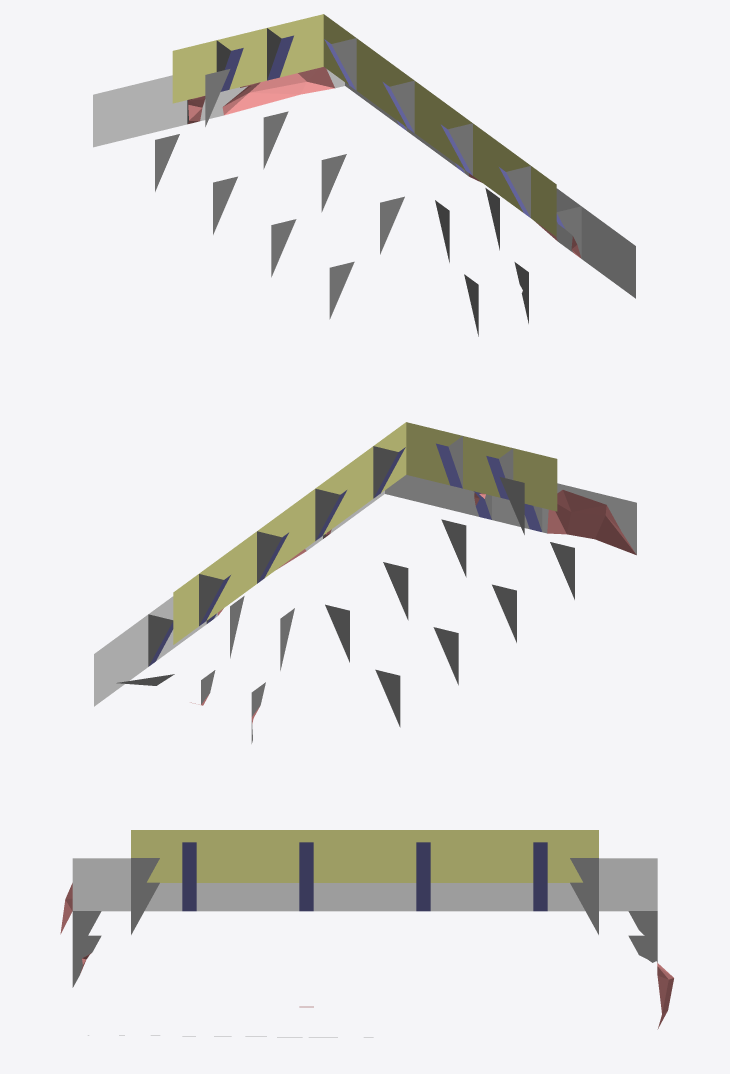
File: SSQ_BRoom02_Top.gltf
The picture shows the model from 3 angles, top to bottom: view 1: azimuth 30°, elevation 25°; view 2: azimuth 150°, elevation 25°; view 3: azimuth 270°, elevation 25°; orthographic projection.
Parts seen in each view (by area): view 1: SSQ_BRoom02_Top; view 2: SSQ_BRoom02_Top; view 3: SSQ_BRoom02_Top.
Boxes of the visible parts, box(x1,y1,x2,y2) form: SSQ_BRoom02_Top: box(93, 14, 635, 336); SSQ_BRoom02_Top: box(94, 422, 636, 743); SSQ_BRoom02_Top: box(60, 830, 673, 1037).
Bounding box in the file's own units: 8.96 × 2.56 × 15.36.
